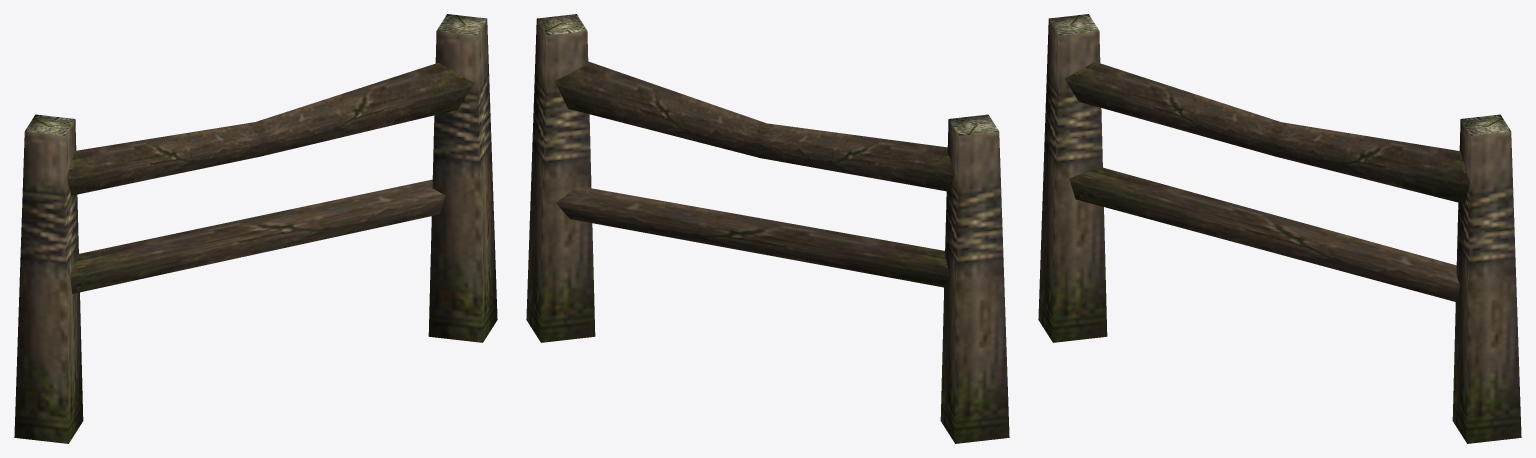
File: zc_erhai_weilan01.FBX
The picture shows the model from 3 angles, left to right: view 1: azimuth 30°, elevation 25°; view 2: azimuth 150°, elevation 25°; view 3: azimuth 330°, elevation 25°; orthographic projection.
Visible parts, largest first — view 1: zc_erhai_weilan01; view 2: zc_erhai_weilan01; view 3: zc_erhai_weilan01.
Part boxes in pixels (<box>): zc_erhai_weilan01: <box>14,14,497,443</box>; zc_erhai_weilan01: <box>526,14,1009,443</box>; zc_erhai_weilan01: <box>1038,14,1521,443</box>.
Size of the model in its own units: 260 by 157 by 37.1.
